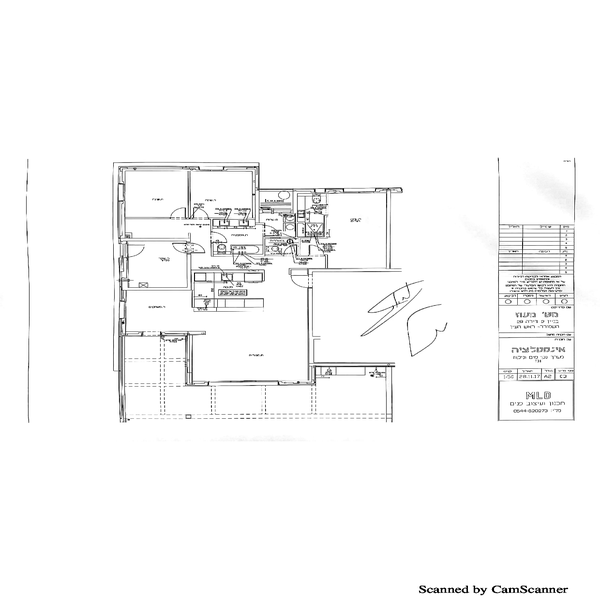door: (191, 204, 215, 226), (287, 264, 309, 287), (167, 203, 190, 222), (123, 243, 147, 260), (190, 238, 207, 260), (278, 239, 298, 256), (306, 241, 327, 256), (209, 229, 227, 244), (173, 238, 185, 260)
wall: (308, 290, 320, 385), (123, 282, 193, 294), (127, 235, 187, 244)
